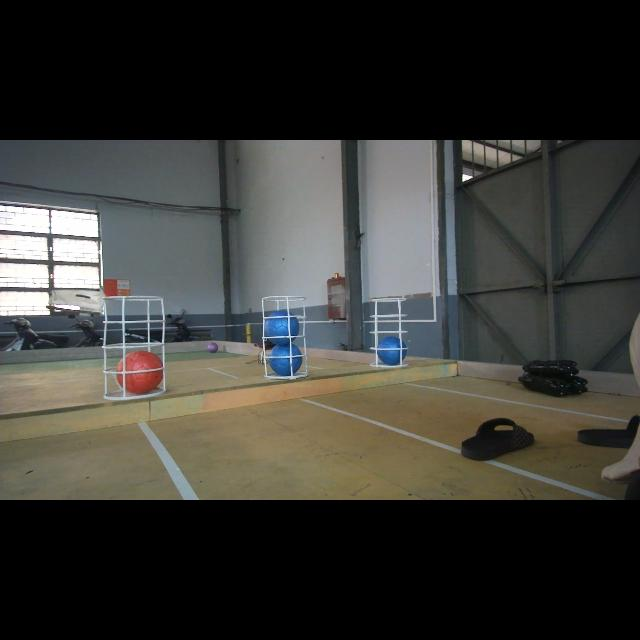B: (264, 309, 302, 345), (268, 342, 302, 376), (377, 335, 408, 365)
R: (116, 351, 164, 395)
